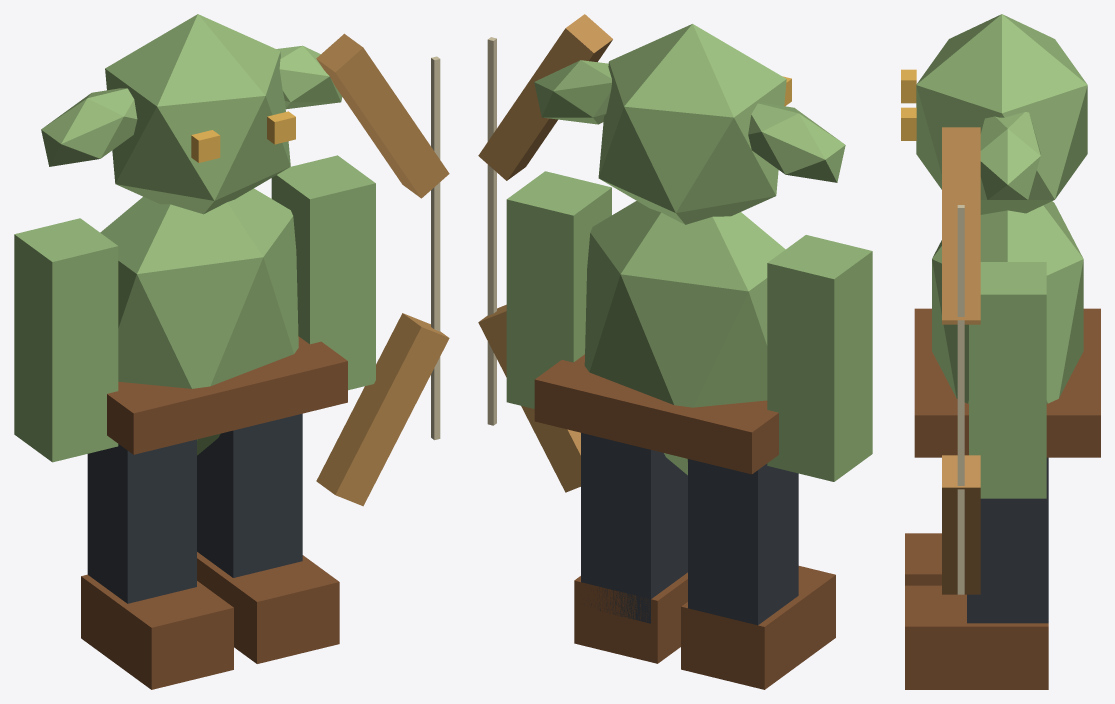
File: archer.fbx
3 renders of one model, left to right at view 1: azimuth 30°, elevation 25°; view 2: azimuth 150°, elevation 25°; view 3: azimuth 270°, elevation 25°, orthographic.
Parts seen in each view (by area): view 1: Torso.002, Head.002, ArmLMesh.002, ArmRMesh.002, LegLMesh.002, LegRMesh.002, Belt.002, Boot.004, Bow, Boot.005, Bow.001, Ear.004 (+4 smaller); view 2: Torso.002, Head.002, ArmLMesh.002, ArmRMesh.002, LegLMesh.002, LegRMesh.002, Belt.002, Boot.004, Boot.005, Bow.001, Ear.004, Ear.005 (+2 smaller); view 3: Head.002, ArmRMesh.002, Torso.002, Boot.005, Belt.002, LegRMesh.002, Bow.001, Bow, Ear.005, String, Boot.004, Eye.004 (+1 smaller).
Boxes of the visible parts, x1,y1,x2,y2 form: Torso.002: [100, 188, 298, 455]; Head.002: [105, 14, 290, 214]; ArmLMesh.002: [14, 218, 118, 462]; ArmRMesh.002: [271, 155, 375, 390]; LegLMesh.002: [87, 439, 196, 603]; LegRMesh.002: [197, 413, 302, 577]; Belt.002: [107, 336, 347, 454]; Boot.004: [81, 574, 233, 689]; Bow: [316, 313, 449, 506]; Boot.005: [197, 552, 339, 663]; Bow.001: [316, 33, 449, 198]; Ear.004: [41, 88, 137, 166]; Torso.002: [584, 201, 785, 475]; Head.002: [598, 24, 786, 224]; ArmLMesh.002: [767, 235, 872, 481]; ArmRMesh.002: [506, 171, 611, 408]; LegLMesh.002: [688, 459, 798, 625]; LegRMesh.002: [581, 433, 687, 623]; Belt.002: [534, 354, 778, 474]; Boot.004: [681, 566, 835, 689]; Boot.005: [574, 572, 687, 663]; Bow.001: [478, 14, 612, 180]; Ear.004: [748, 103, 845, 182]; Ear.005: [534, 60, 611, 124]; Head.002: [916, 14, 1087, 214]; ArmRMesh.002: [969, 262, 1046, 498]; Torso.002: [932, 201, 1083, 403]; Boot.005: [905, 585, 1048, 689]; Belt.002: [914, 308, 1100, 457]; LegRMesh.002: [967, 457, 1048, 623]; Bow.001: [942, 127, 980, 324]; Bow: [942, 455, 980, 594]; Ear.005: [980, 112, 1040, 199]; String: [957, 205, 964, 594]; Boot.004: [905, 533, 941, 585]; Eye.004: [901, 69, 916, 103].
Bounding box in the file's own units: 116 × 179 × 51.5.
